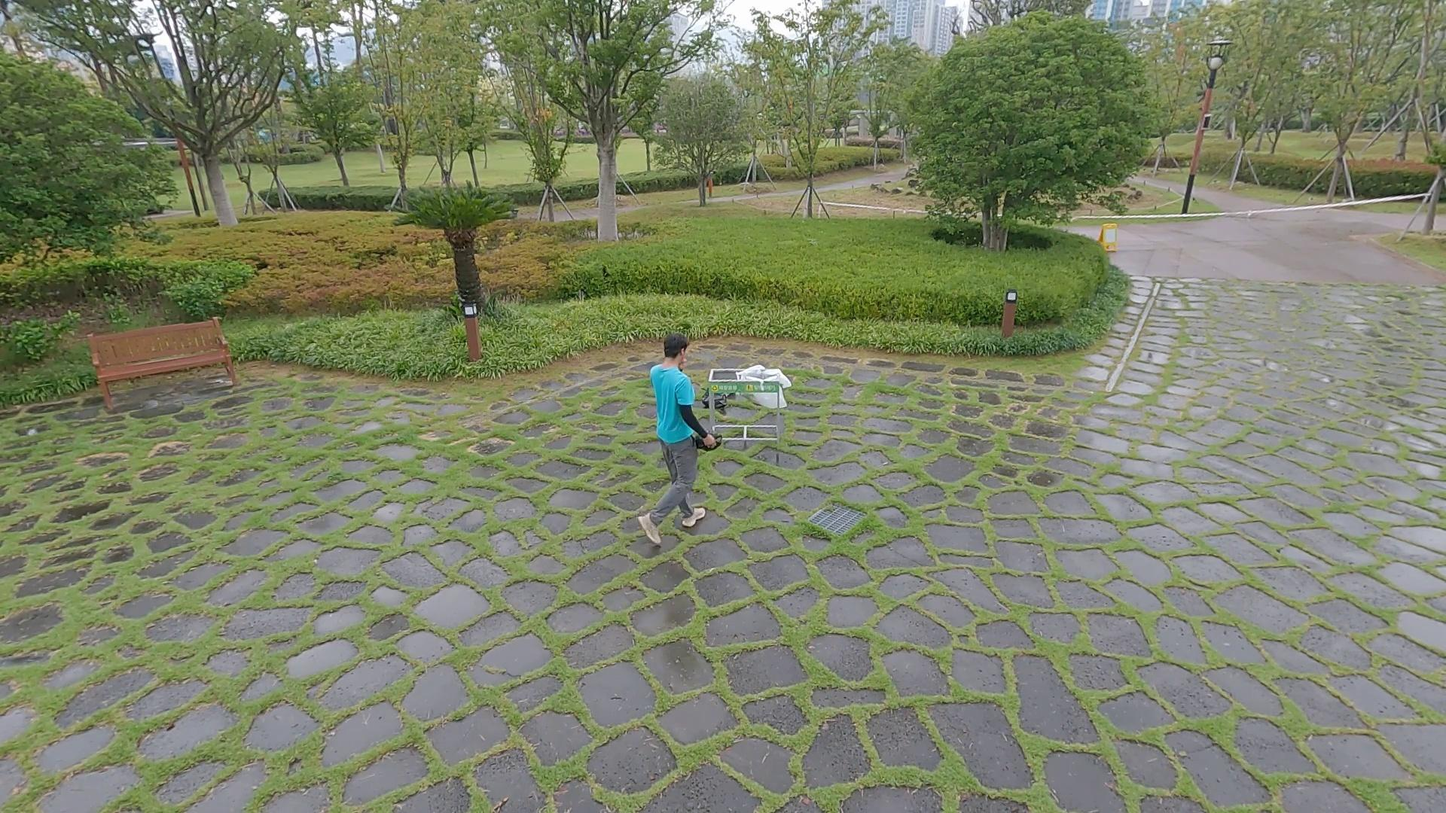person: (640, 324, 713, 552)
trash: (702, 388, 734, 413), (692, 433, 724, 452)
